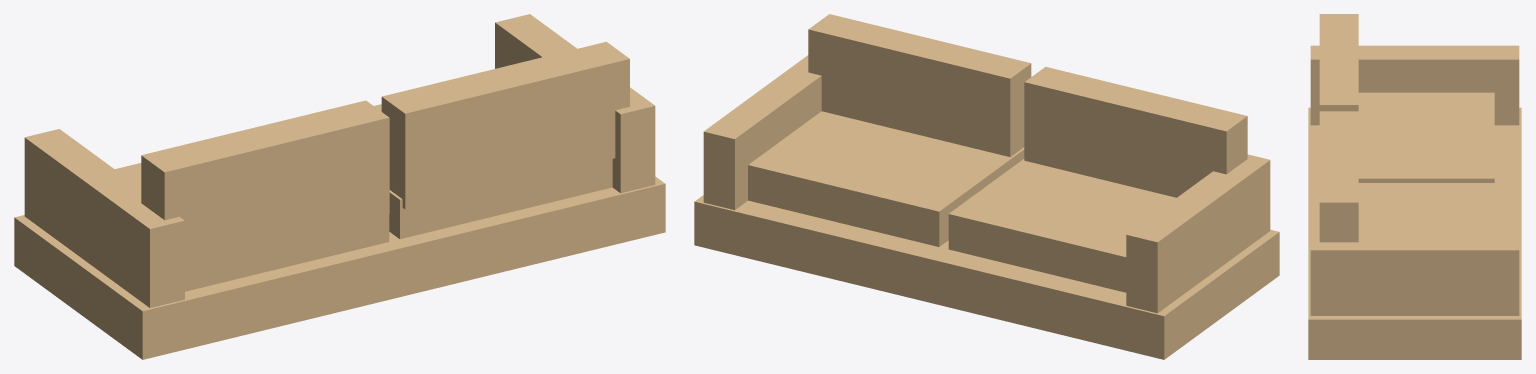
The model's file is office_lounge_seating_reference_board_03.glb.
3 renders of one model, left to right at view 1: azimuth 30°, elevation 25°; view 2: azimuth 150°, elevation 25°; view 3: azimuth 270°, elevation 25°, orthographic. The views are drawn at different scales.
Parts seen in each view (by area): view 1: Cube; view 2: Cube; view 3: Cube.
Part boxes in pixels (x1,y1,x2,y2): Cube: [14, 14, 665, 359]; Cube: [694, 14, 1279, 359]; Cube: [1308, 14, 1521, 359].
Bounding box in the file's own units: 2.34 × 0.75 × 0.9935.
